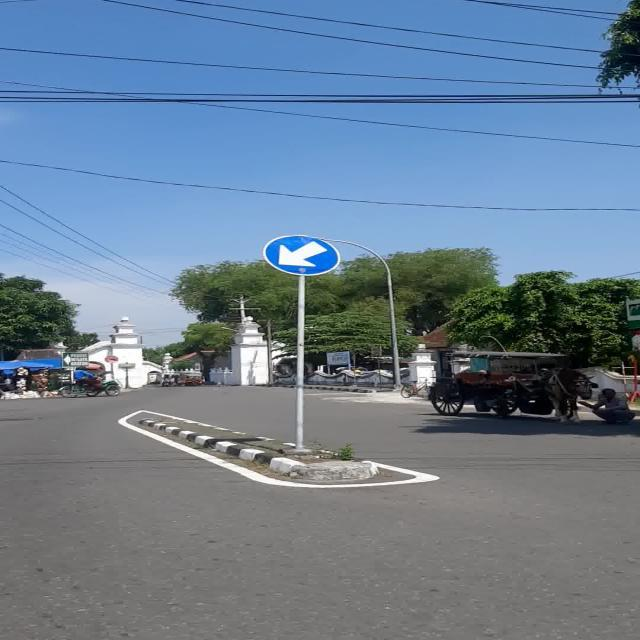Lajur Kiri: (263, 235, 341, 276)
